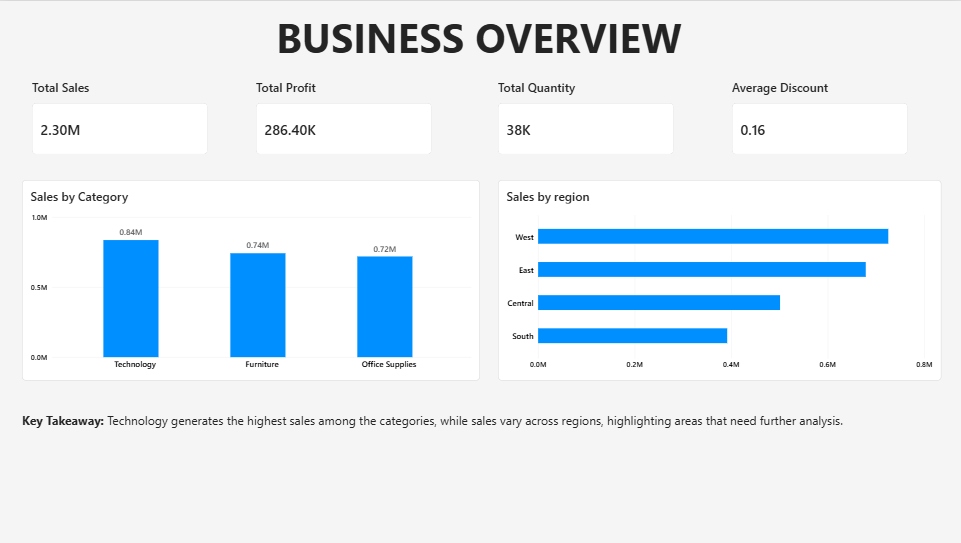

The dashboard page shown, as its layout file describes it:
{"tool":"powerbi","page":{"name":"1-Business Overview","canvas":[1920,1080],"ordinal":1},"visuals":[{"type":"cardVisual","title":"Total Sales","fields":{"Data":["Sum(SampleSuperstore.Sales)"]},"box":[66.3,154.7,350,150],"z":0},{"type":"cardVisual","title":"Total Profit","fields":{"Data":["Sum(SampleSuperstore.Profit)"]},"box":[513.1,154.7,350,150],"z":1},{"type":"cardVisual","title":"Total Quantity","fields":{"Data":["Sum(SampleSuperstore.Quantity)"]},"box":[994.4,154.7,350,150],"z":2},{"type":"cardVisual","title":"Average Discount","fields":{"Data":["Avg(SampleSuperstore.Discount)"]},"box":[1460.9,154.7,350,150],"z":3},{"type":"clusteredColumnChart","title":"Sales by Category","fields":{"Category":["SampleSuperstore.Category"],"Y":["Sum(SampleSuperstore.Sales)"]},"box":[46.6,356,913.4,400.2],"z":4},{"type":"textbox","box":[66.3,17.2,1782.5,117.9],"z":6},{"type":"clusteredBarChart","title":" Sales by region","fields":{"Category":["SampleSuperstore.Region"],"Y":["Sum(SampleSuperstore.Sales)"]},"box":[994.4,356,883.9,400.2],"z":7},{"type":"textbox","box":[46.6,820.1,1831.6,41.7],"z":8}]}

Visuals, with their boxes in screenshot pixels (x1, y1, x2, y2), scaled from the page's 1920x1080 canvas onto the 961x543 screenshot:
"Total Sales" cardVisual: [33,78,208,153]
"Total Profit" cardVisual: [257,78,432,153]
"Total Quantity" cardVisual: [498,78,673,153]
"Average Discount" cardVisual: [731,78,906,153]
"Sales by Category" clusteredColumnChart: [23,179,480,380]
textbox: [33,9,925,68]
" Sales by region" clusteredBarChart: [498,179,940,380]
textbox: [23,412,940,433]
